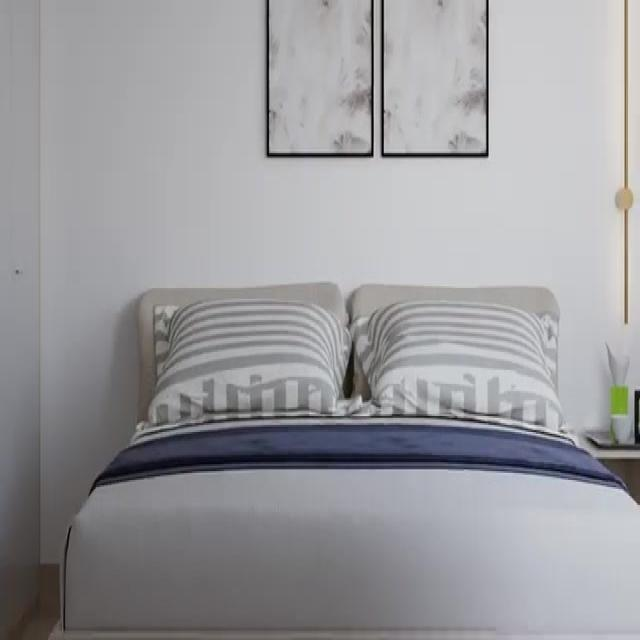obstacle: (58, 279, 639, 638)
